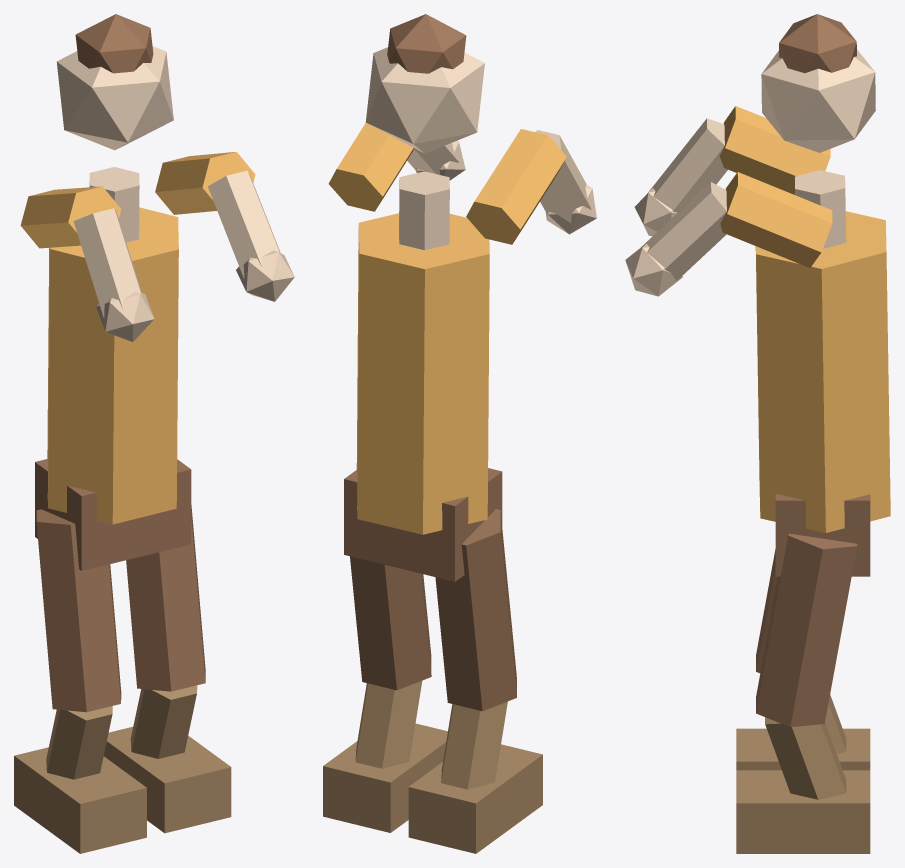
Rendered from pose_idle_02.glb.
3 views of the same model, side by side, from view 1: azimuth 30°, elevation 25°; view 2: azimuth 150°, elevation 25°; view 3: azimuth 270°, elevation 25° (orthographic).
Parts seen in each view (by area): view 1: pose; view 2: pose; view 3: pose.
Part boxes in pixels (box(x1,y1,x2,y2)): pose: box(14, 14, 294, 853); pose: box(323, 14, 596, 853); pose: box(625, 14, 890, 853).
Bounding box in the file's own units: 0.3971 × 1.59 × 0.4759.
